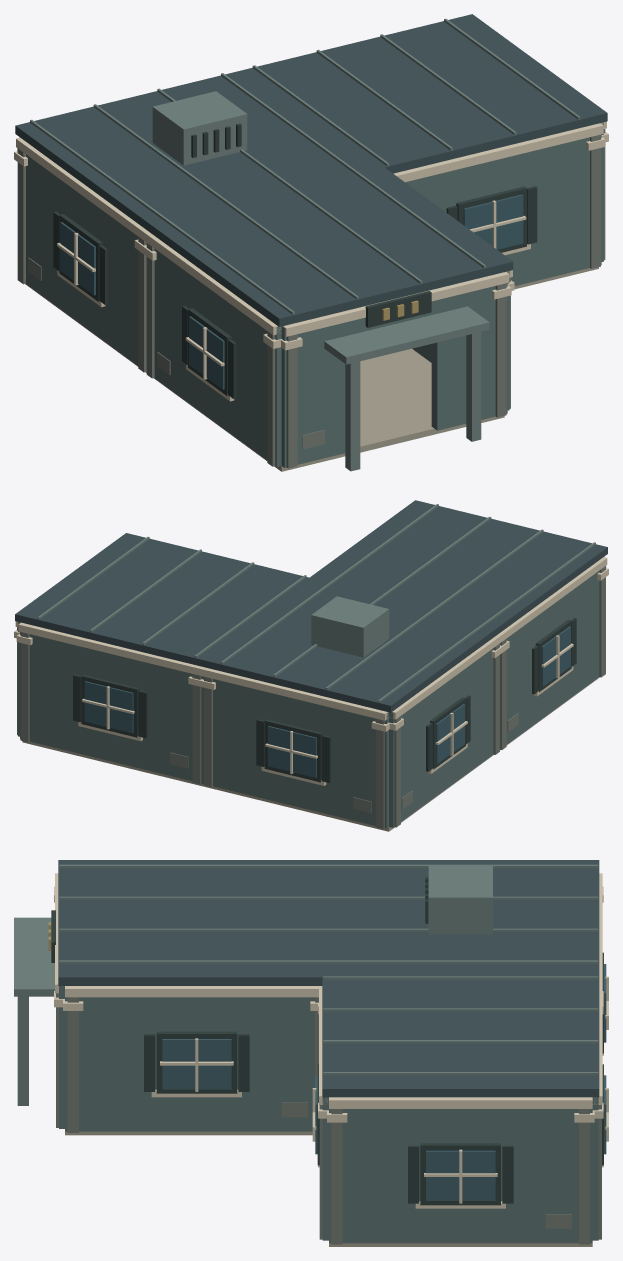
The model's file is FSA_ENV_Protected_06_SecurityPost.glb.
The picture shows the model from 3 angles, top to bottom: view 1: azimuth 30°, elevation 25°; view 2: azimuth 150°, elevation 25°; view 3: azimuth 270°, elevation 25°; orthographic projection. The views are drawn at different scales.
Parts seen in each view (by area): view 1: FlatRoof_164, FlatRoof_110, FlatRoof_41, Wall_60, Floor_120, Wall_121, Wall_122, Wall_148, RoofPlant_46, Wall_25, PorchCanopy_174, Wall_147 (+39 smaller); view 2: FlatRoof_164, FlatRoof_110, FlatRoof_41, Wall_7, Wall_93, Wall_94, Wall_8, RoofPlant_46, Wall_24, Wall_25, Wall_148, Wall_147 (+43 smaller); view 3: FlatRoof_110, FlatRoof_164, FlatRoof_41, Wall_77, Wall_131, Wall_76, Wall_130, RoofPlant_46, Glass_140, Glass_86, Cornice_80, PorchCanopy_174 (+32 smaller).
Part boxes in pixels (box(x1,y1,x2,y2)): FlatRoof_164: box(144, 163, 513, 326); FlatRoof_110: box(240, 14, 607, 173); FlatRoof_41: box(15, 68, 366, 232); Wall_60: box(520, 134, 601, 284); Floor_120: box(154, 348, 504, 471); Wall_121: box(281, 320, 354, 467); Wall_122: box(431, 283, 507, 430); Wall_148: box(229, 304, 281, 466); RoofPlant_46: box(152, 91, 247, 165); Wall_25: box(101, 209, 138, 365); PorchCanopy_174: box(324, 306, 489, 364); Wall_147: box(154, 249, 194, 406); FlatRoof_164: box(310, 500, 607, 634); FlatRoof_110: box(15, 533, 317, 667); FlatRoof_41: box(198, 578, 500, 712); Wall_7: box(319, 705, 388, 828); Wall_93: box(136, 660, 203, 783); Wall_94: box(20, 632, 86, 755); Wall_8: box(203, 676, 269, 799); RoofPlant_46: box(311, 596, 389, 657); Wall_24: box(389, 693, 431, 827); Wall_25: box(460, 648, 493, 778); Wall_148: box(566, 571, 599, 700); Wall_147: box(506, 616, 537, 744); FlatRoof_110: box(322, 971, 599, 1097); FlatRoof_164: box(58, 860, 335, 985); FlatRoof_41: box(322, 860, 599, 971); Wall_77: box(329, 1109, 424, 1243); Wall_131: box(65, 997, 160, 1131); Wall_76: box(496, 1109, 592, 1243); Wall_130: box(232, 997, 314, 1131); RoofPlant_46: box(428, 865, 492, 934); Glass_140: box(162, 1039, 231, 1089); Glass_86: box(426, 1150, 495, 1200); Cornice_80: box(329, 1097, 592, 1108); PorchCanopy_174: box(14, 917, 54, 996).
Bounding box in the file's own units: 14.86 × 5.79 × 15.78.
